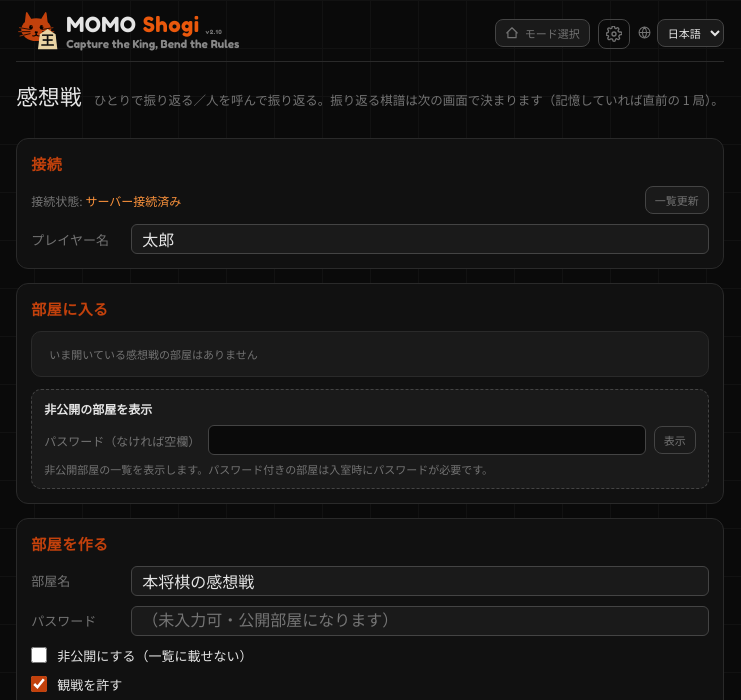
Test: S12 感想戦ロビー（v1.54） › ★v1.55: 非公開の部屋は「表示」を入れるまで一覧に出さない（S04 と同じ）
Expected: the text "ないしょの振り返り" is not shown
Click the button "表示" at [675, 440], box [654,426,696,454]
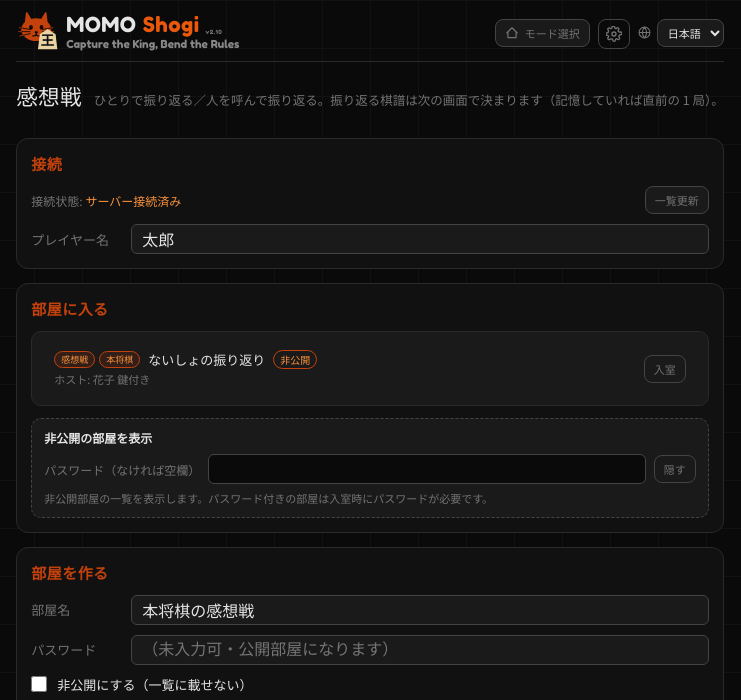
Result: the text "ないしょの振り返り" is shown at [148,350,265,369]
